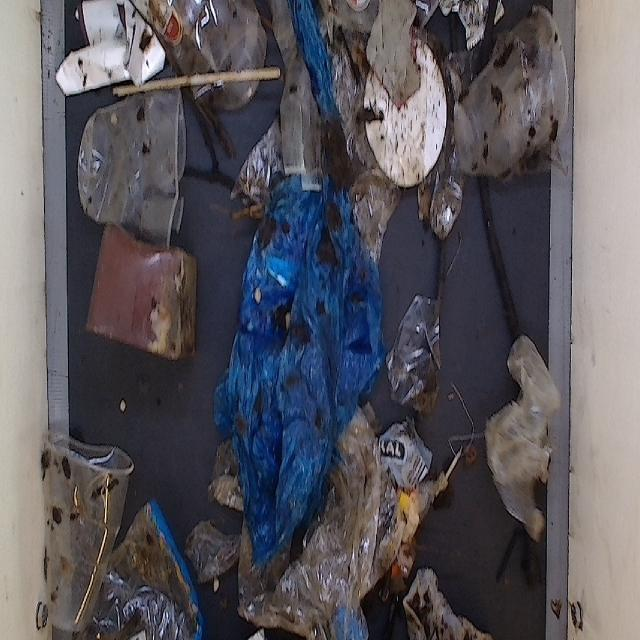food_packaging: (222, 142, 390, 562), (88, 212, 202, 377), (52, 1, 175, 107), (402, 549, 514, 640)
food_wrapping: (354, 400, 431, 525)
plastic_cups: (448, 0, 580, 203), (25, 418, 130, 640), (76, 96, 203, 250), (142, 0, 282, 136), (89, 521, 200, 640), (328, 0, 394, 64)
plastic_films: (210, 448, 408, 640), (486, 320, 560, 558), (379, 281, 447, 406)
undef_hard_plastic: (355, 0, 432, 125)
